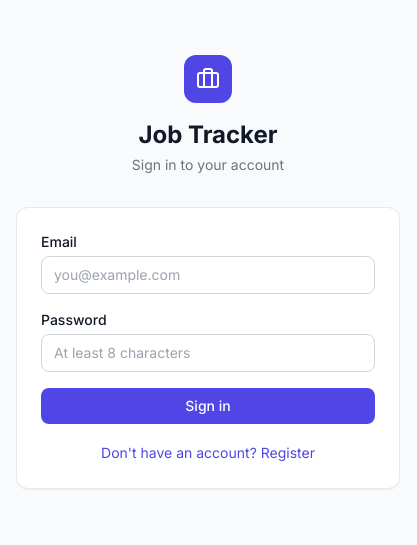
Test: Login page › shows the register form when the toggle link is clicked
Check: the text "Sign in to your account" is shown, box [132,156,284,173]
Click the button "Don't have an account? Register" at [208, 453], box [101,443,315,463]
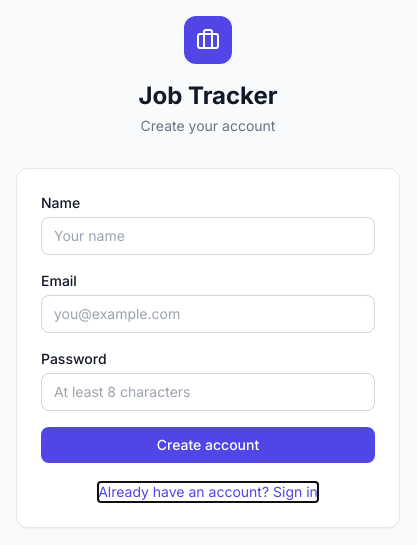
Check: the text "Create your account" is shown, box [141,117,275,134]
Check: the field labelled "Name" is shown, box [41,217,375,255]
